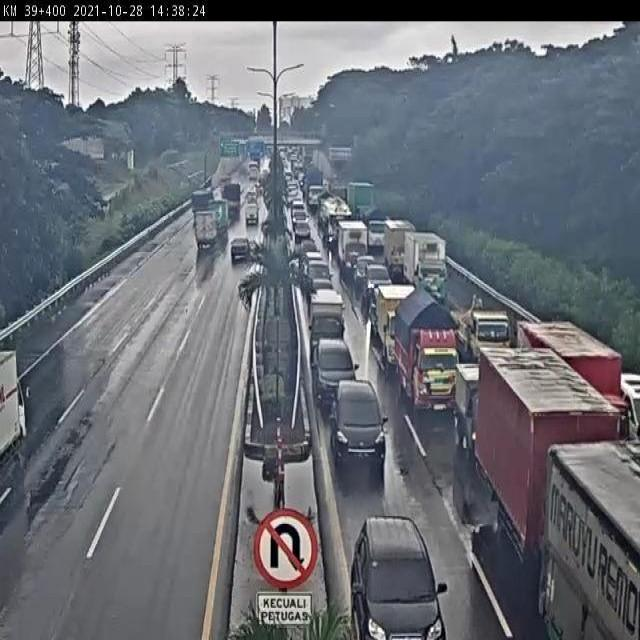car: (346, 506, 449, 640), (328, 371, 386, 468), (305, 329, 352, 399), (362, 261, 392, 304), (310, 274, 336, 306), (228, 240, 254, 269)
small truck: (399, 303, 472, 421), (451, 356, 483, 460), (402, 233, 451, 300), (467, 297, 512, 367), (378, 284, 413, 365), (307, 291, 350, 349), (193, 206, 219, 250)
